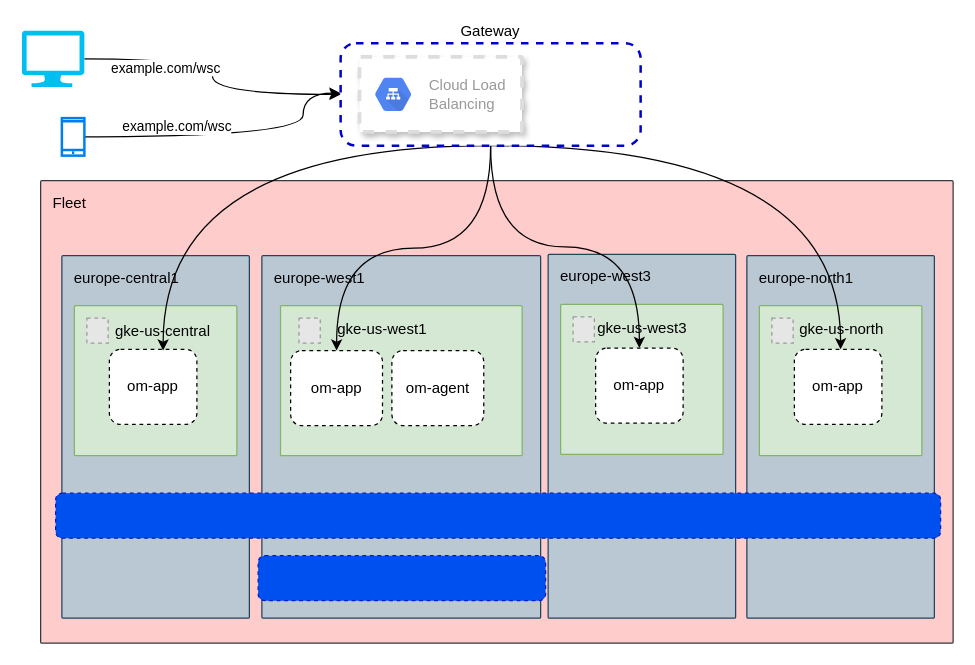
Image size: 975x665. Some labels were removed from this diagram. Grey dashed boxes stand in for pictures. Each missing label, with the centre of its shape:
"IBM DB2 Cluster ( GDPC)" belongs at pixel 497 515.
"IBM MQ Cluster" belongs at pixel 401 577.
